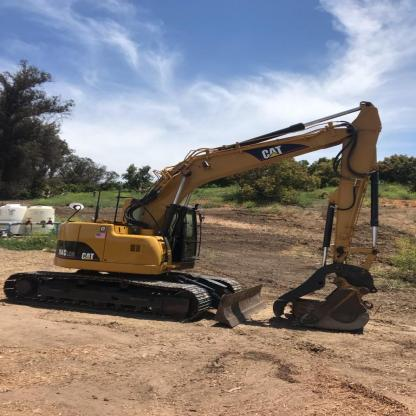excavator: (7, 89, 392, 343)
